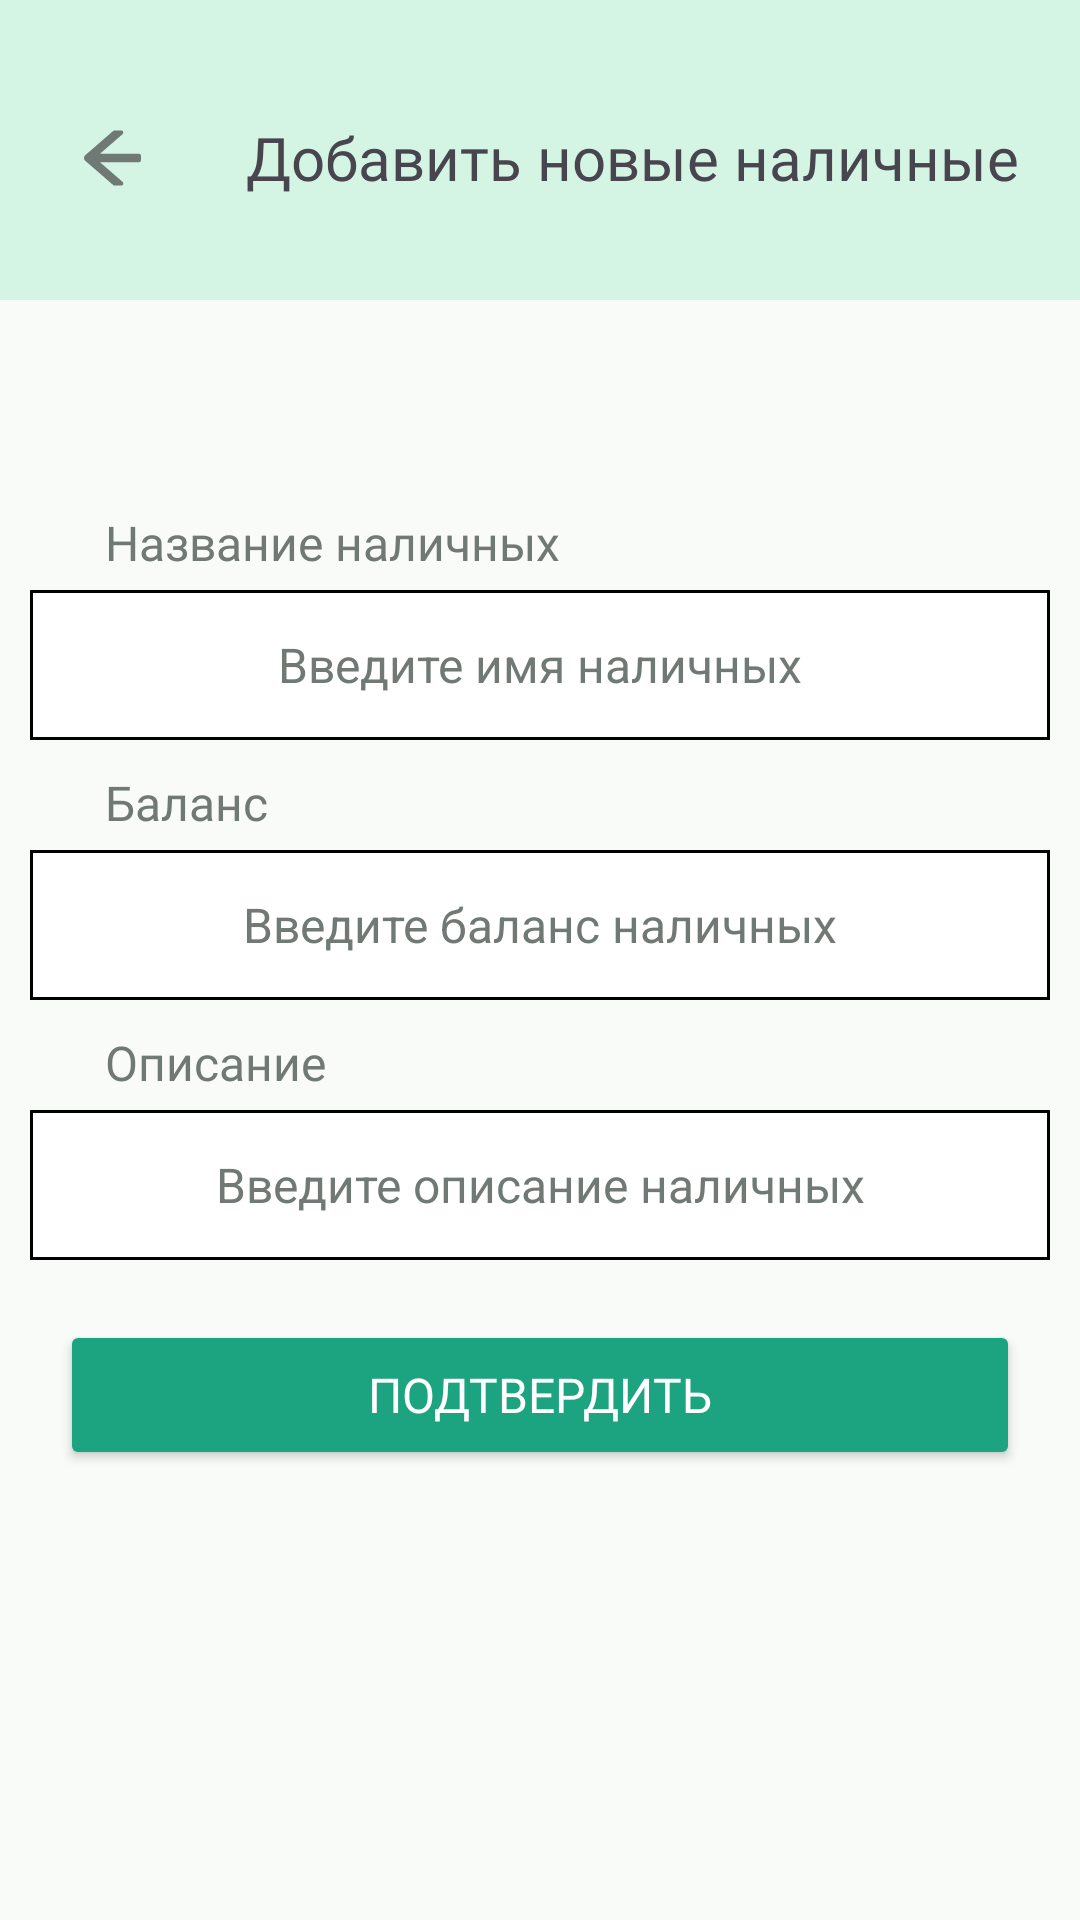

Where to tap for icons on this 1080w x 1920h app screen, as point (x, y):
arrow left: point (112, 158)
